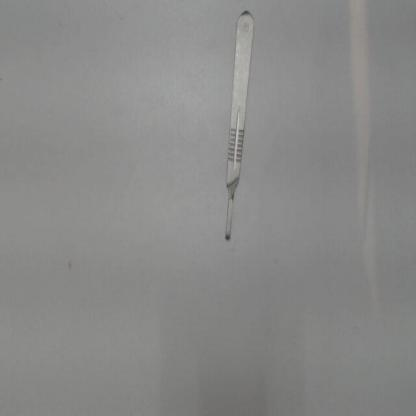No.4 BP Handle: (219, 7, 266, 245)
